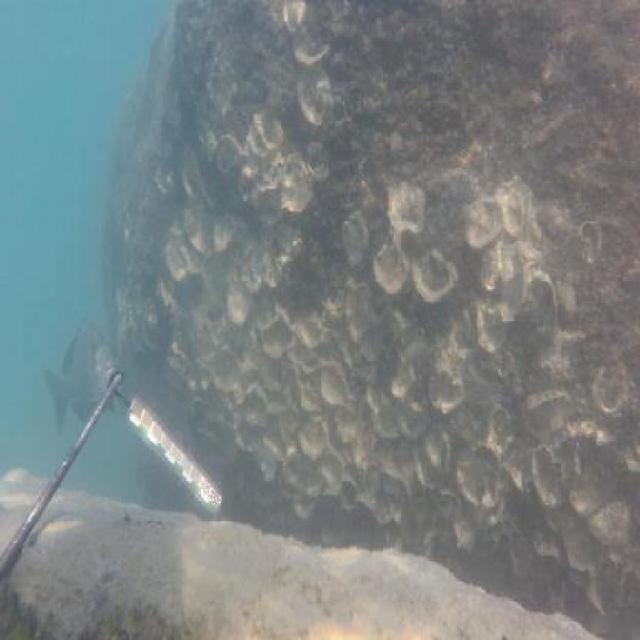acanthopagrus_palmaris: (44, 318, 114, 434)
